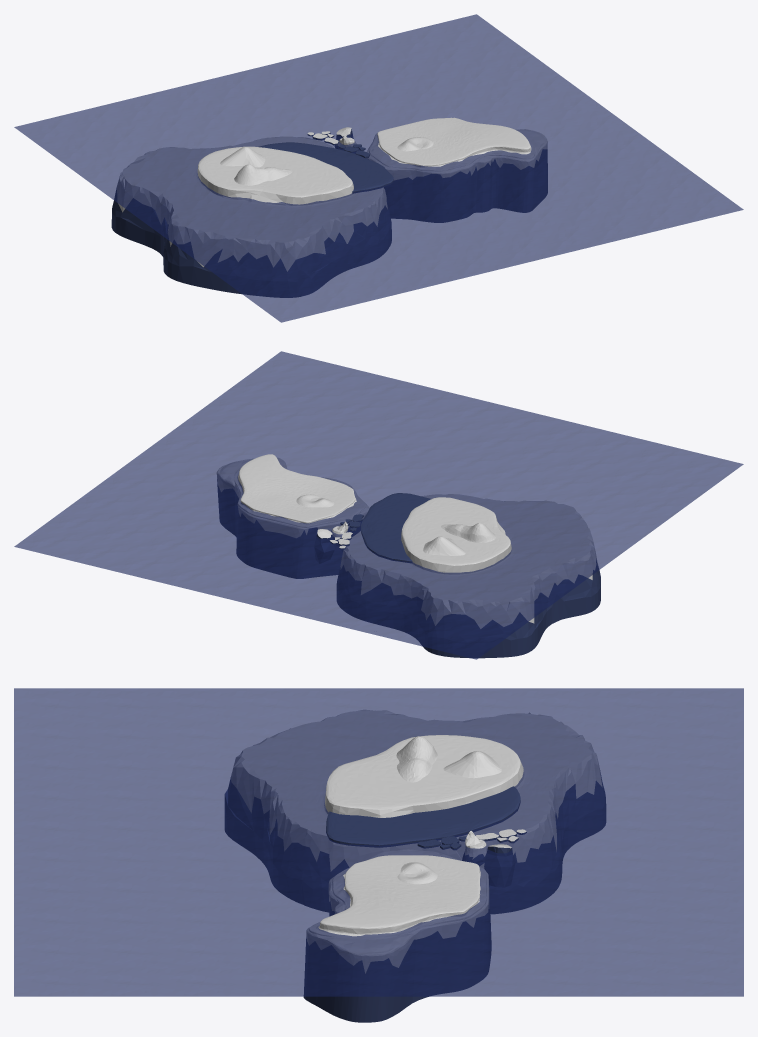
File: ice.fbx
3 views of the same model, one above another, from view 1: azimuth 30°, elevation 25°; view 2: azimuth 150°, elevation 25°; view 3: azimuth 270°, elevation 25° (orthographic). The views are drawn at different scales.
Parts seen in each view (by area): view 1: water, snow_place_1, snow_place_2, ice_1, snow_1, snow_2; view 2: water, snow_place_1, snow_place_2, ice_1, snow_1, snow_2, ice_13; view 3: water, snow_place_1, snow_place_2, ice_1, snow_1, ice_13, snow_2, snow_5, ice_2.
Part boxes in pixels (x1,y1,x2,y2): water: (14, 14, 743, 322); snow_place_1: (111, 137, 391, 297); snow_place_2: (366, 117, 547, 222); ice_1: (258, 142, 393, 193); snow_1: (234, 164, 292, 185); snow_2: (220, 146, 265, 167); water: (14, 351, 743, 659); snow_place_1: (337, 494, 600, 658); snow_place_2: (217, 454, 369, 578); ice_1: (361, 493, 431, 562); snow_1: (441, 523, 495, 542); snow_2: (423, 536, 465, 555); ice_13: (314, 529, 334, 563); water: (14, 688, 743, 996); snow_place_1: (225, 710, 605, 913); snow_place_2: (303, 849, 491, 1022); ice_1: (326, 786, 520, 847); snow_1: (396, 736, 437, 782); ice_13: (484, 844, 515, 887); snow_2: (443, 751, 501, 778); snow_5: (397, 862, 437, 884); ice_2: (462, 831, 487, 866).
Bounding box in the file's own units: 500 × 77.76 × 500.
